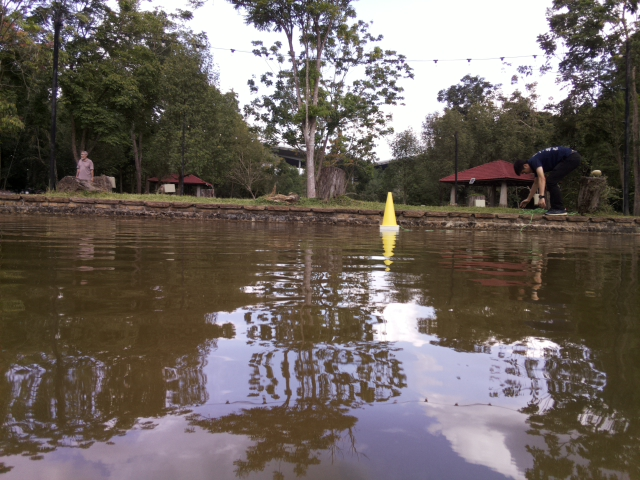checkpoint: (379, 191, 402, 234)
